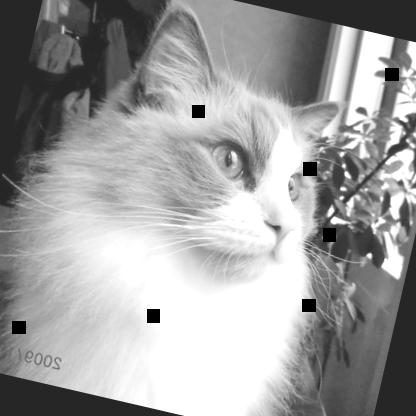cat: (0, 0, 379, 415)
